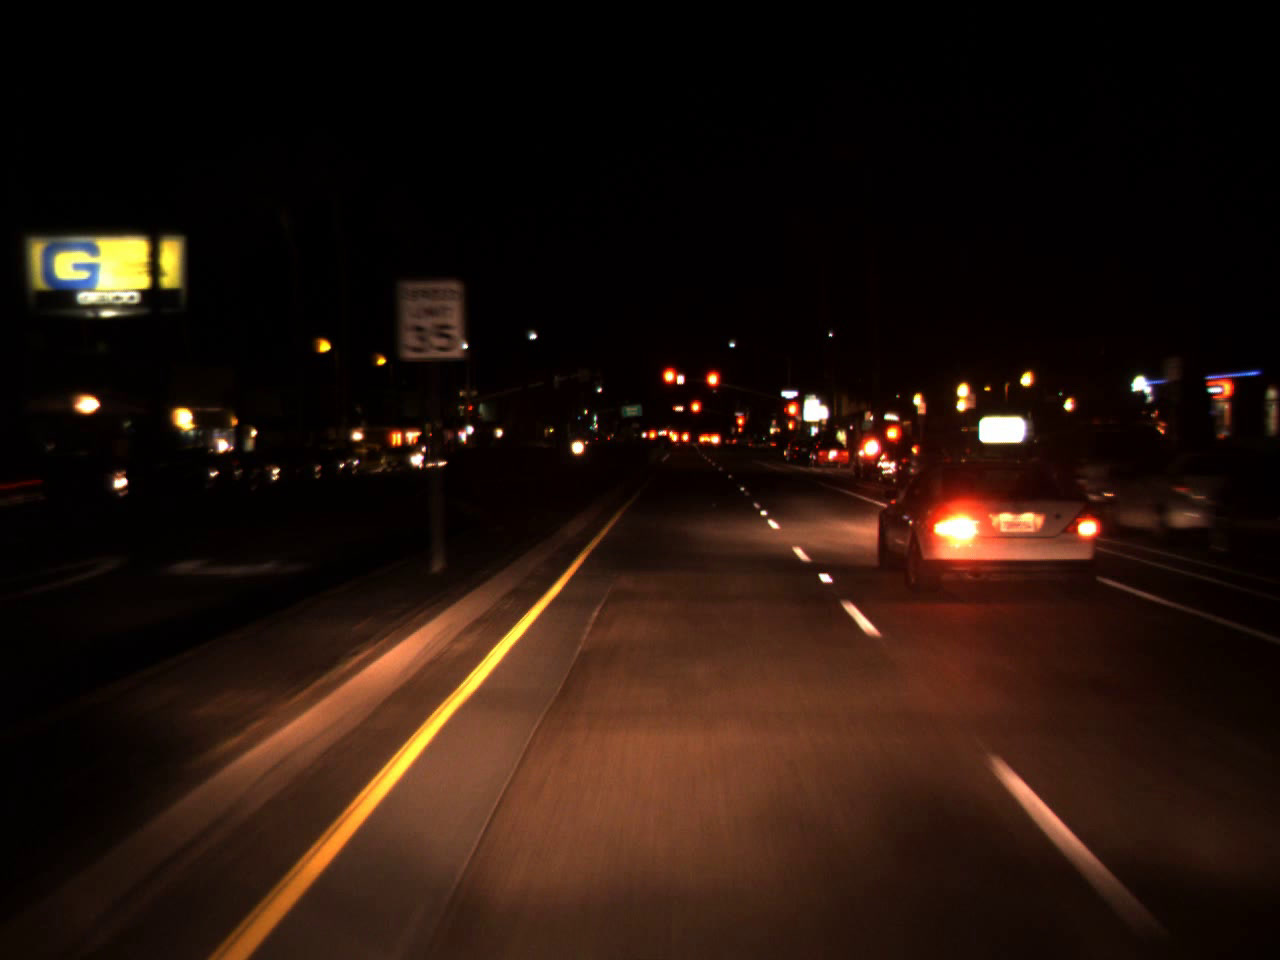stop: (659, 364, 681, 407), (703, 368, 722, 405), (785, 398, 800, 435), (688, 399, 701, 426), (735, 413, 747, 437)
